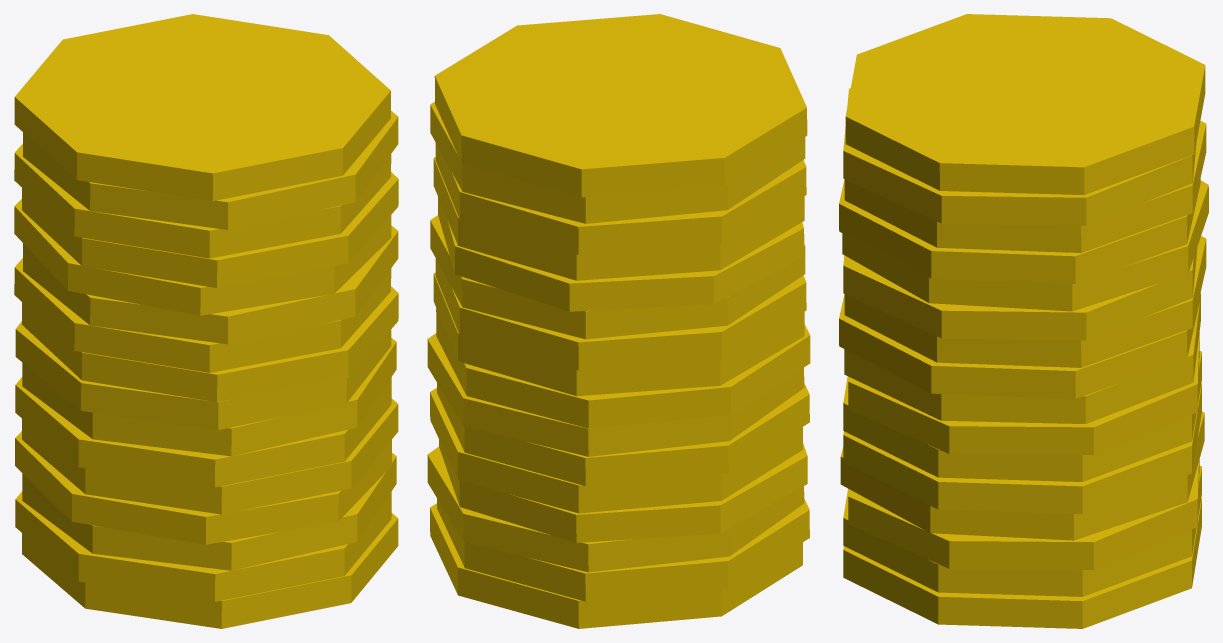
File: CoinStack.fbx
3 renders of one model, left to right at view 1: azimuth 30°, elevation 25°; view 2: azimuth 150°, elevation 25°; view 3: azimuth 270°, elevation 25°, orthographic.
Parts seen in each view (by area): view 1: CoinStack1; view 2: CoinStack1; view 3: CoinStack1.
Boxes of the visible parts, x1,y1,x2,y2 form: CoinStack1: [14, 14, 398, 628]; CoinStack1: [427, 14, 810, 628]; CoinStack1: [839, 14, 1208, 628].
Bounding box in the file's own units: 12.01 × 16.52 × 12.02.
